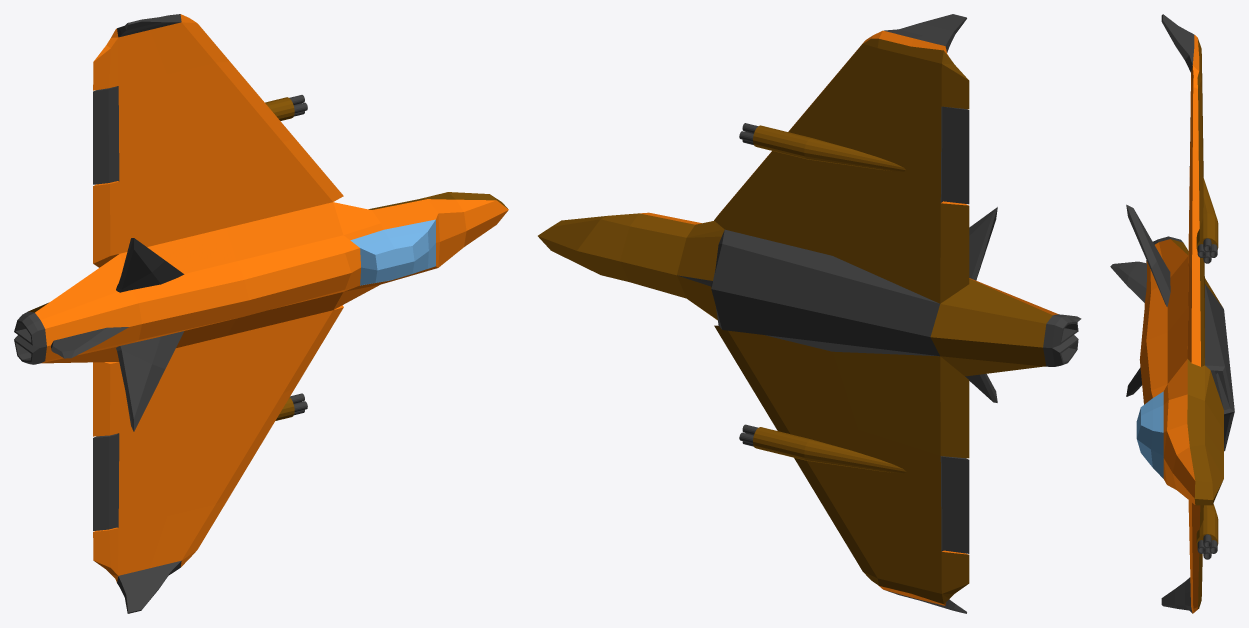
File: aircraft_orange.glb
The picture shows the model from 3 angles, left to right: view 1: azimuth 30°, elevation 25°; view 2: azimuth 150°, elevation 25°; view 3: azimuth 270°, elevation 25°; orthographic projection.
Visible parts, largest first — view 1: AirCraft_orange; view 2: AirCraft_orange; view 3: AirCraft_orange.
Part boxes in pixels (x1,y1,x2,y2): AirCraft_orange: (14,14,508,613); AirCraft_orange: (538,14,1081,613); AirCraft_orange: (1110,14,1234,613).
Bounding box in the file's own units: 12.75 × 14.32 × 2.76.
